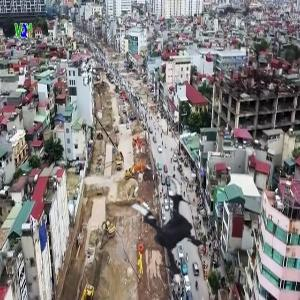drone: (109, 174, 221, 286)
